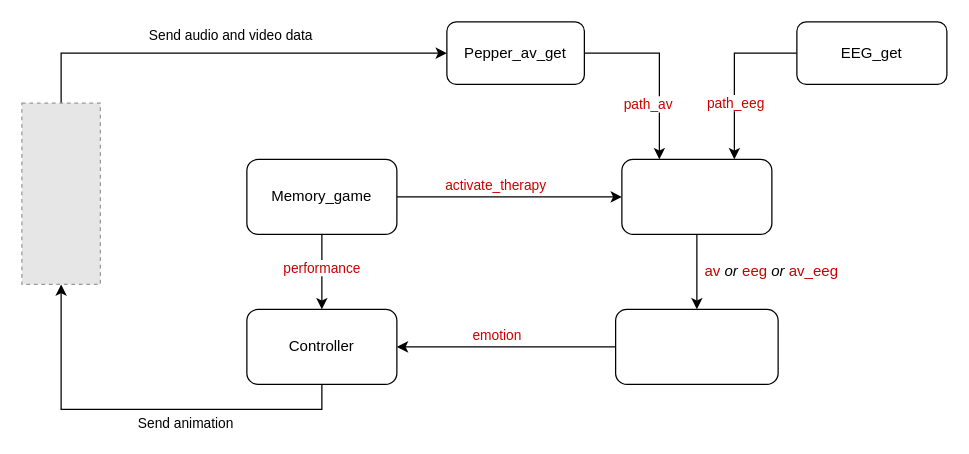
This 969x454 diagram has some shape labels left out. Grey dashed boxes stand in for pictures. Each missing label, with the centre of its shape:
Broker_synchronizer: pixel 696 196
Emotion_recognition: pixel 696 346
